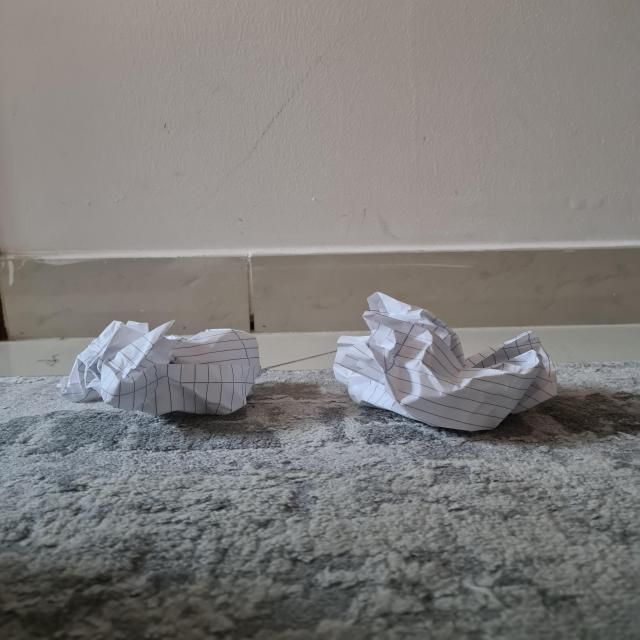cardboard paper: (332, 291, 555, 429), (63, 320, 259, 413)
